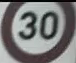Speed limit: (2, 3, 70, 57)
